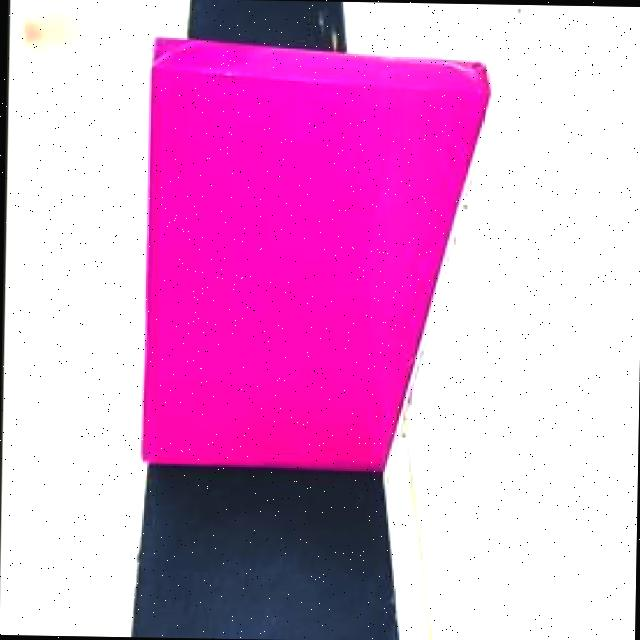xparking: (149, 48, 424, 461)
